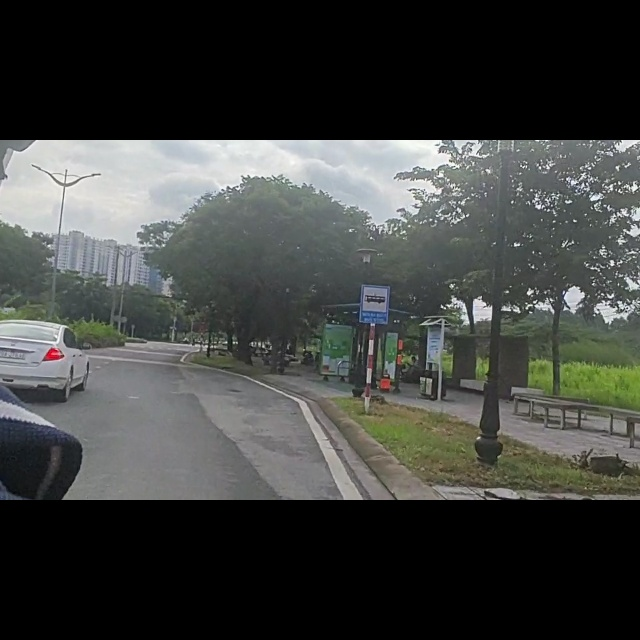bien_hieu_lenh: (357, 250, 393, 339)
